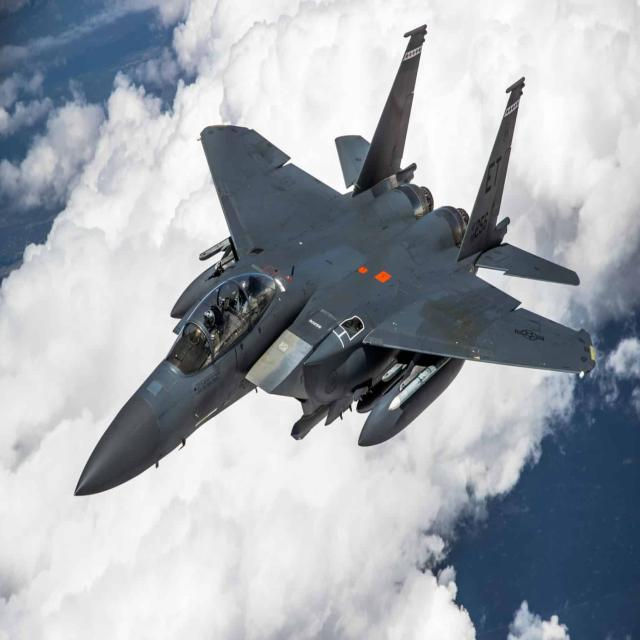F15: (24, 10, 606, 507)
